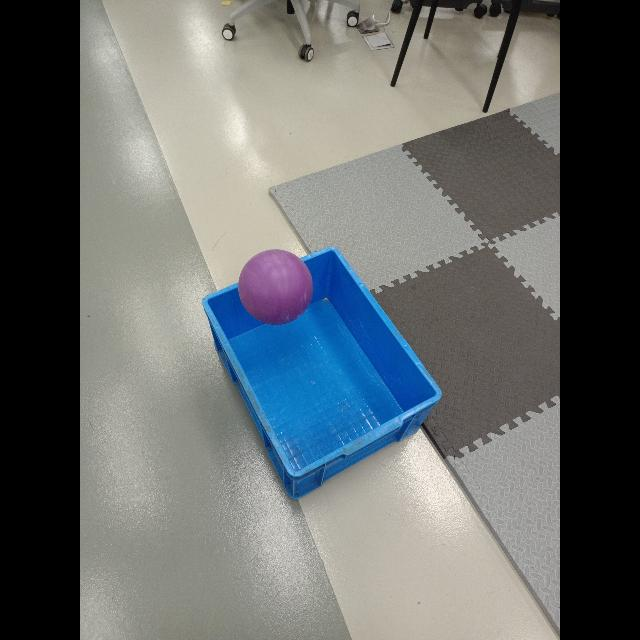P: (238, 249, 314, 325)
